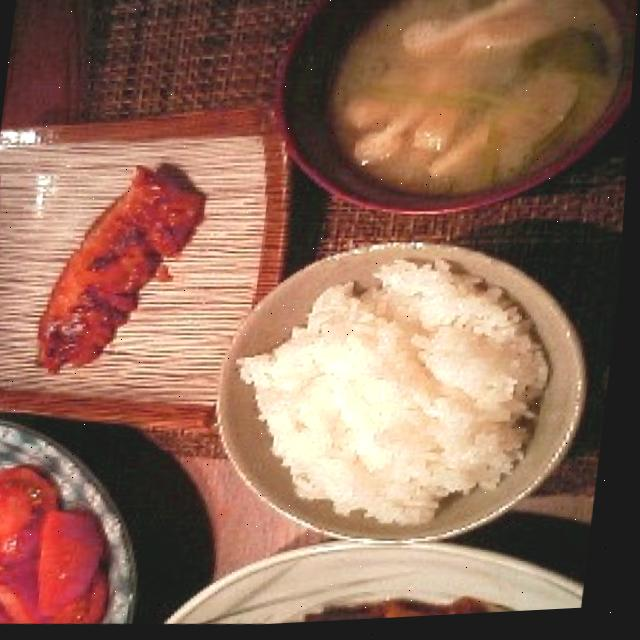汤锅炖物: (267, 0, 640, 238)
熟制海鲜: (0, 147, 196, 390)
米饭主食: (200, 214, 599, 577)
